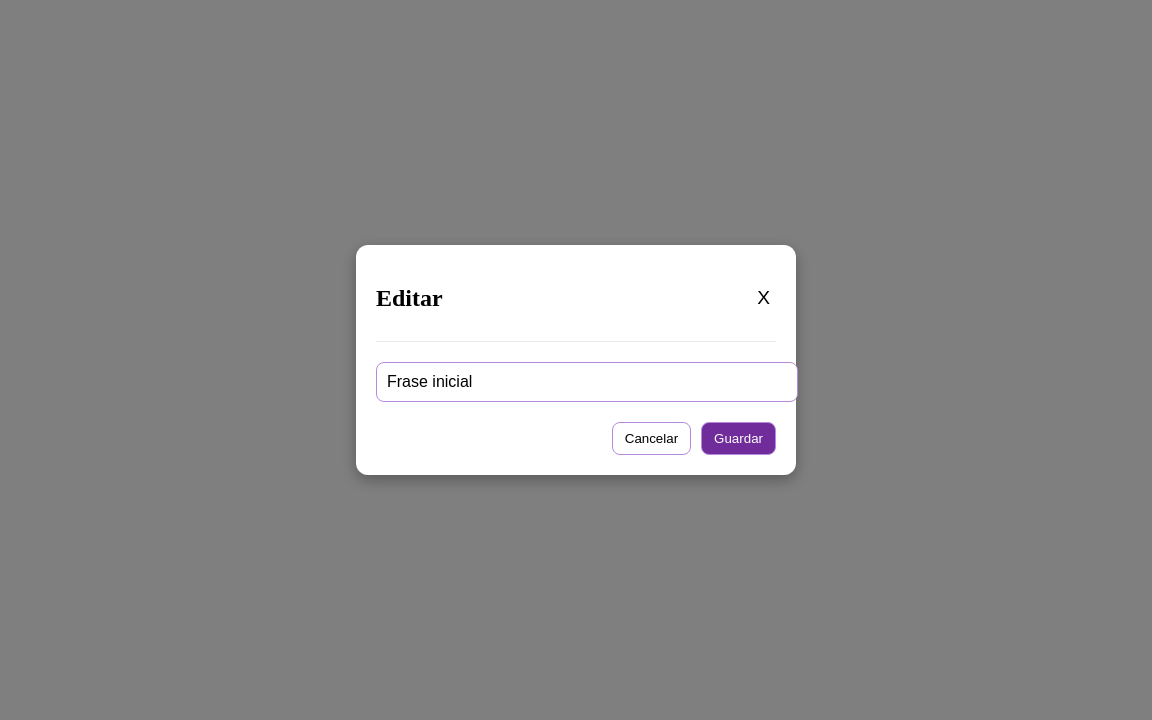
Test: EditPhraseModal Component › debe deshabilitar el botón "Guardar" si la frase tiene menos de 5 caracteres
Step 1. Replace the text in the field with placeholder "Editar frase..." with "Hola" → (587, 382), box x1=376 y1=362 x2=798 y2=402
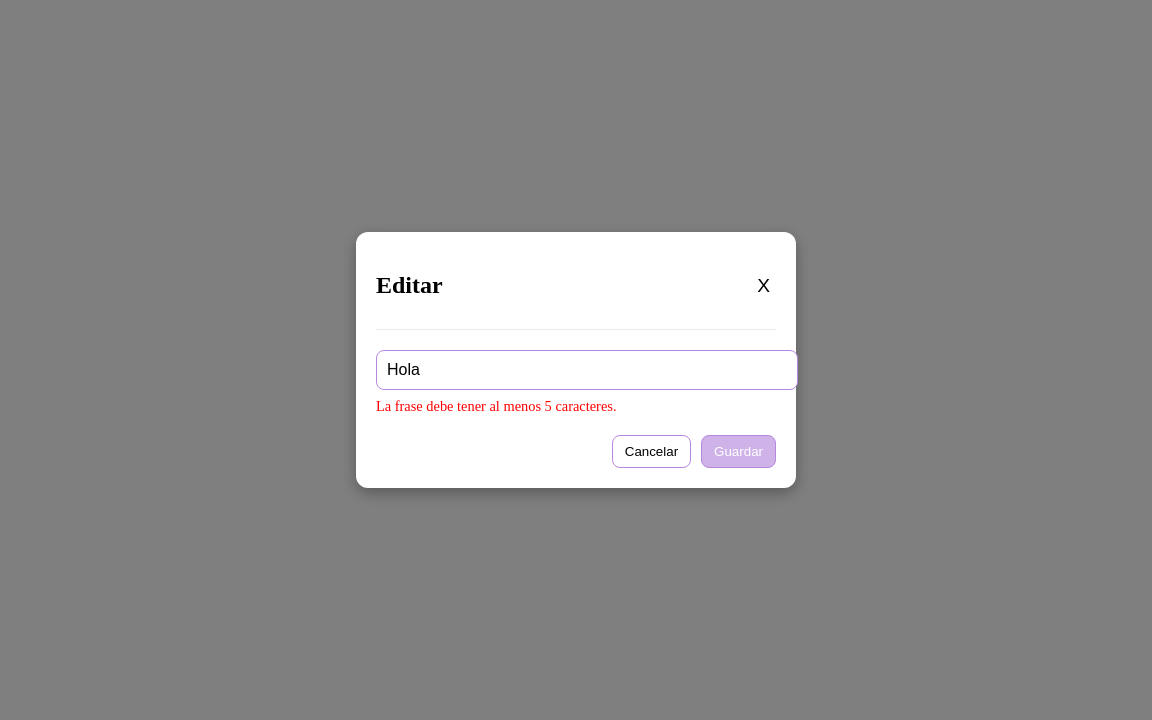
expect the button "Guardar" is disabled: met, box x1=701 y1=435 x2=776 y2=468
expect the text "La frase debe tener al menos 5 caracteres." is shown: met, box x1=376 y1=398 x2=616 y2=414
